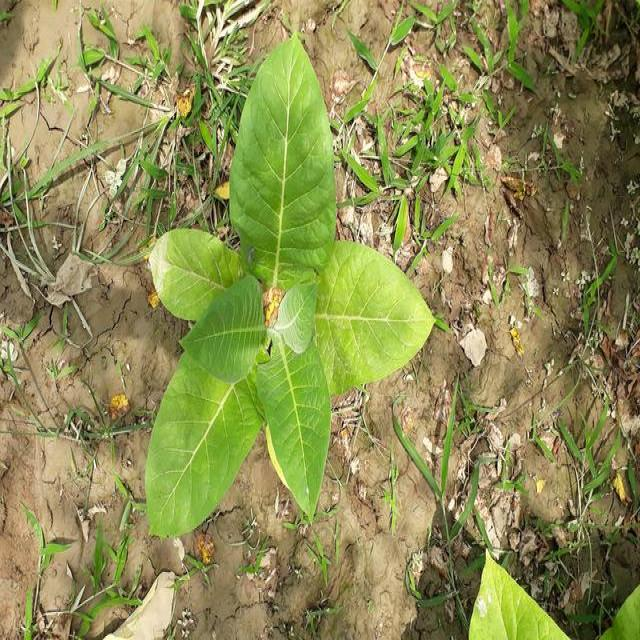crop: (137, 46, 430, 532), (460, 556, 590, 640)
